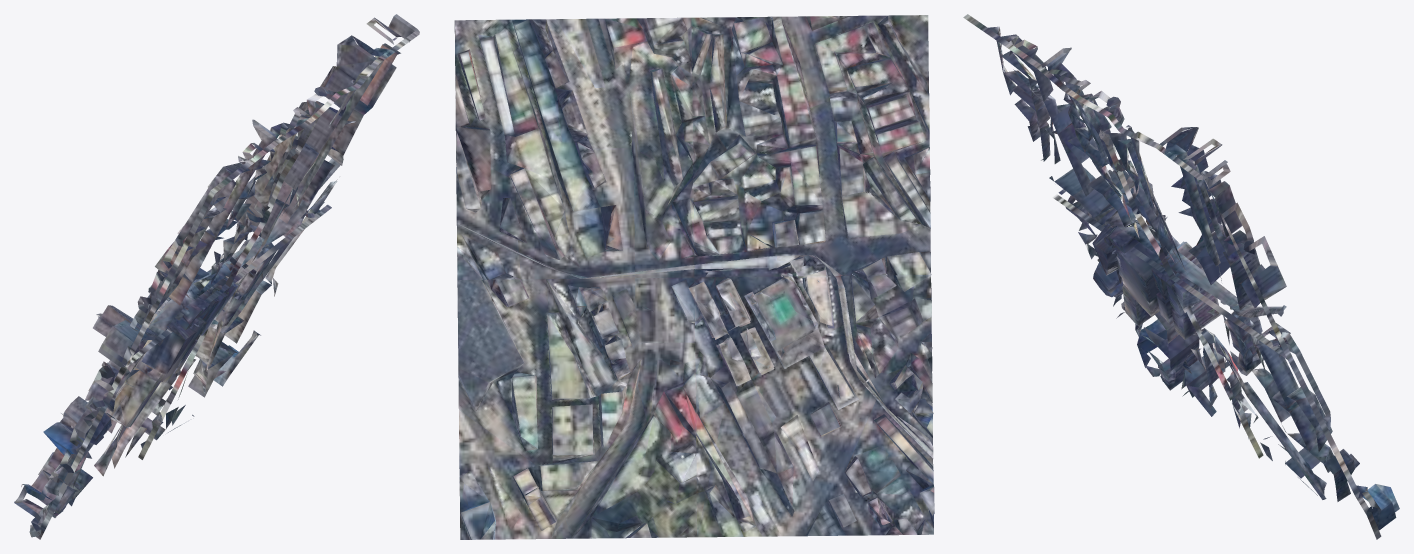
3 views of the same model, side by side, from view 1: azimuth 30°, elevation 25°; view 2: azimuth 150°, elevation 25°; view 3: azimuth 270°, elevation 25° (orthographic). The views are drawn at different scales.
Size of the model in its own units: 630 by 578 by 538.
Materials: 2 (2 with a texture image).
